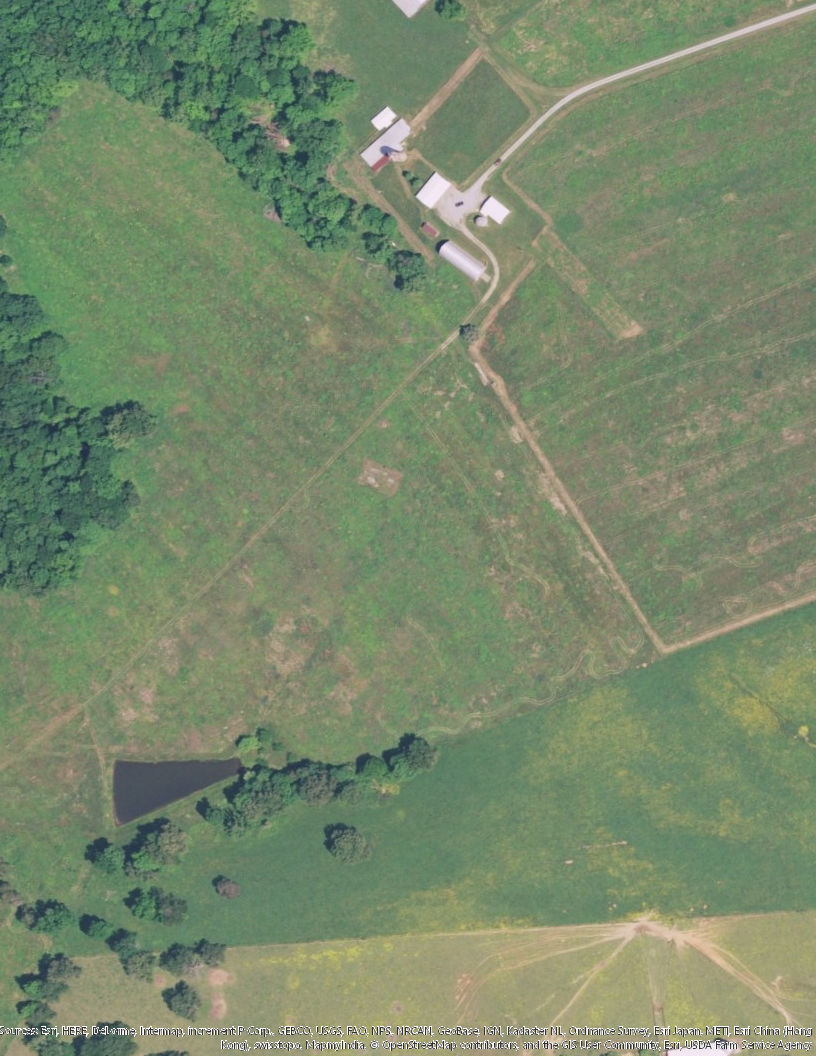cafo: (426, 235, 498, 287), (403, 169, 452, 216), (477, 196, 526, 228)
